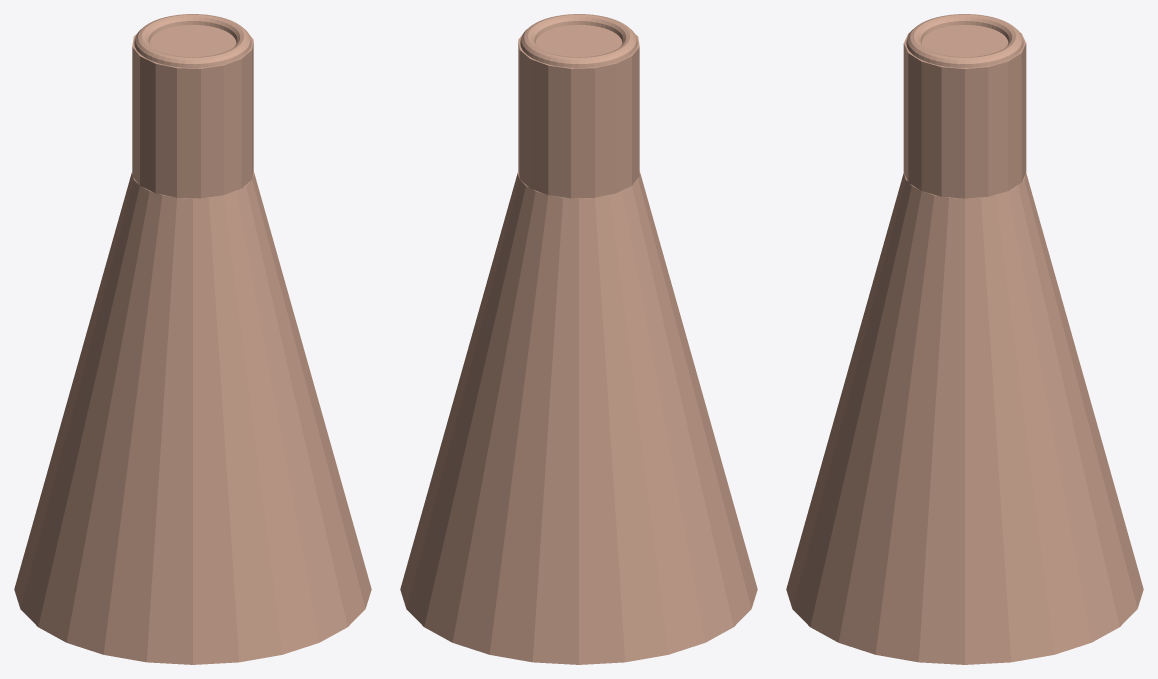
File: c_dress_floral.glb
The picture shows the model from 3 angles, left to right: view 1: azimuth 30°, elevation 25°; view 2: azimuth 150°, elevation 25°; view 3: azimuth 270°, elevation 25°; orthographic projection.
Visible parts, largest first — view 1: c_dress_floral; view 2: c_dress_floral; view 3: c_dress_floral.
Boxes of the visible parts, left/top/right/bottom form: c_dress_floral: left=14, top=14, right=371, bottom=664; c_dress_floral: left=400, top=14, right=757, bottom=664; c_dress_floral: left=786, top=14, right=1143, bottom=664.
Size of the model in its own units: 0.7 by 1.19 by 0.7.
